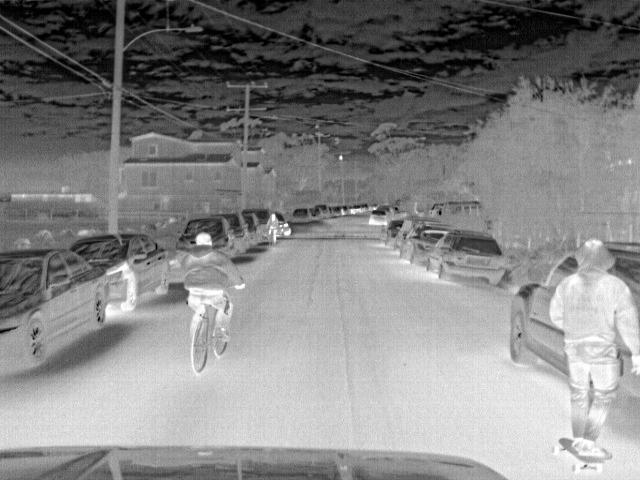car: (1, 248, 104, 372), (510, 252, 575, 384), (69, 233, 169, 313), (429, 231, 508, 286), (181, 214, 240, 260), (211, 211, 250, 254), (403, 227, 441, 270), (242, 206, 275, 242), (240, 213, 264, 244), (444, 202, 484, 218), (368, 205, 394, 227), (288, 204, 314, 225), (273, 212, 291, 237), (428, 202, 444, 220), (315, 204, 330, 220), (330, 206, 345, 218)
person: (550, 241, 637, 461), (178, 233, 245, 316)
